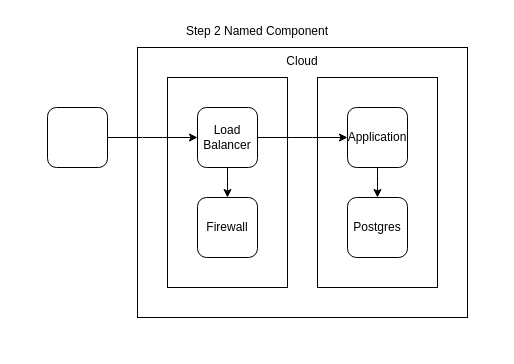
This 514x364 diagram has some shape labels left out. Each missing label, with the box of its shape:
Client: (46, 106, 108, 168)
Private Subnet: (316, 76, 438, 288)
Public Subnet: (166, 76, 288, 288)
